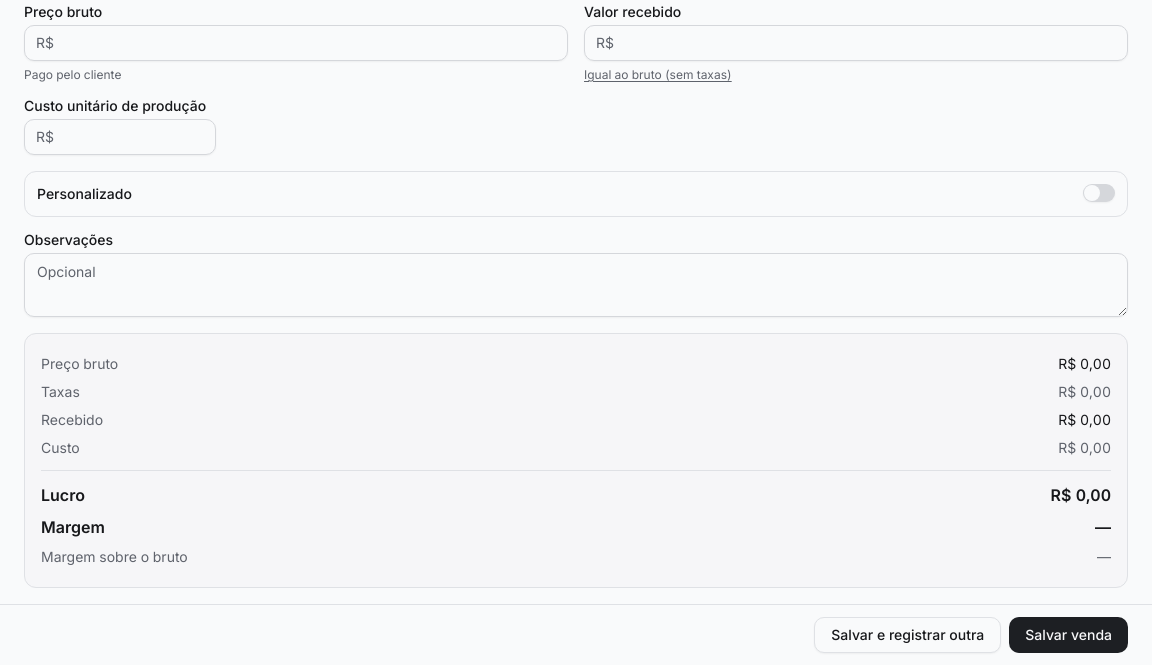
Test: SaleForm › asks for a product before saving
(page scrolled)
Click the button "Salvar venda" at (1069,635), box [1009, 617, 1128, 653]
(page scrolled)
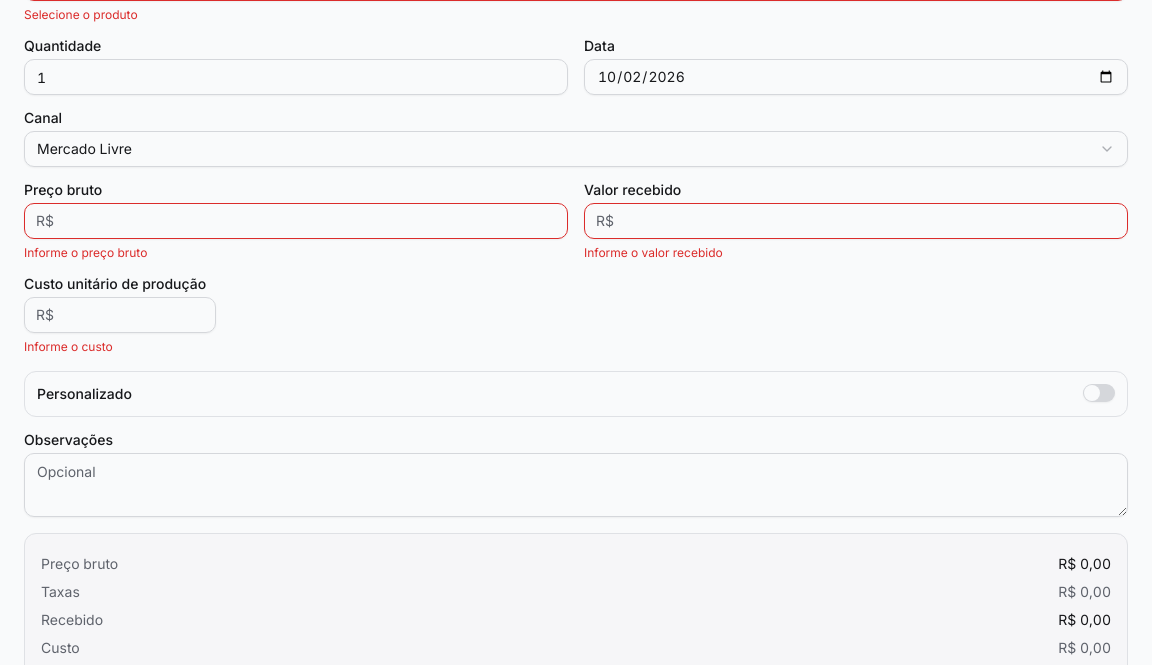
expect the text "Selecione o produto" is shown: met, box [24, 7, 138, 22]
